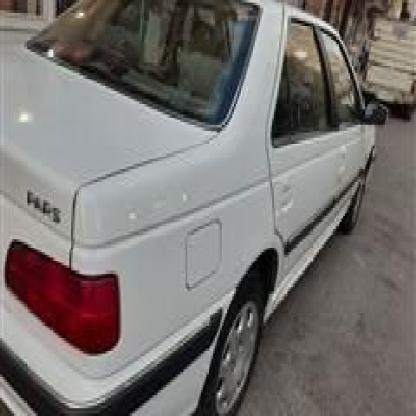Car: (0, 0, 374, 416), (353, 2, 416, 122)
